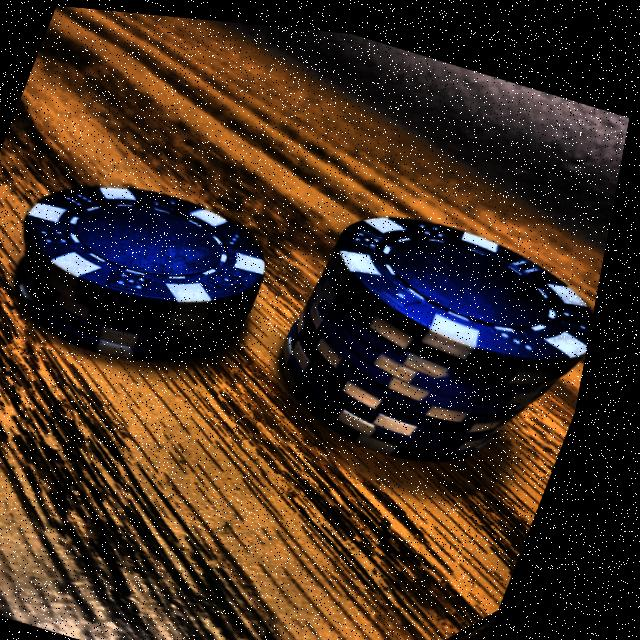Chip: (231, 172, 618, 491), (0, 142, 315, 394)
